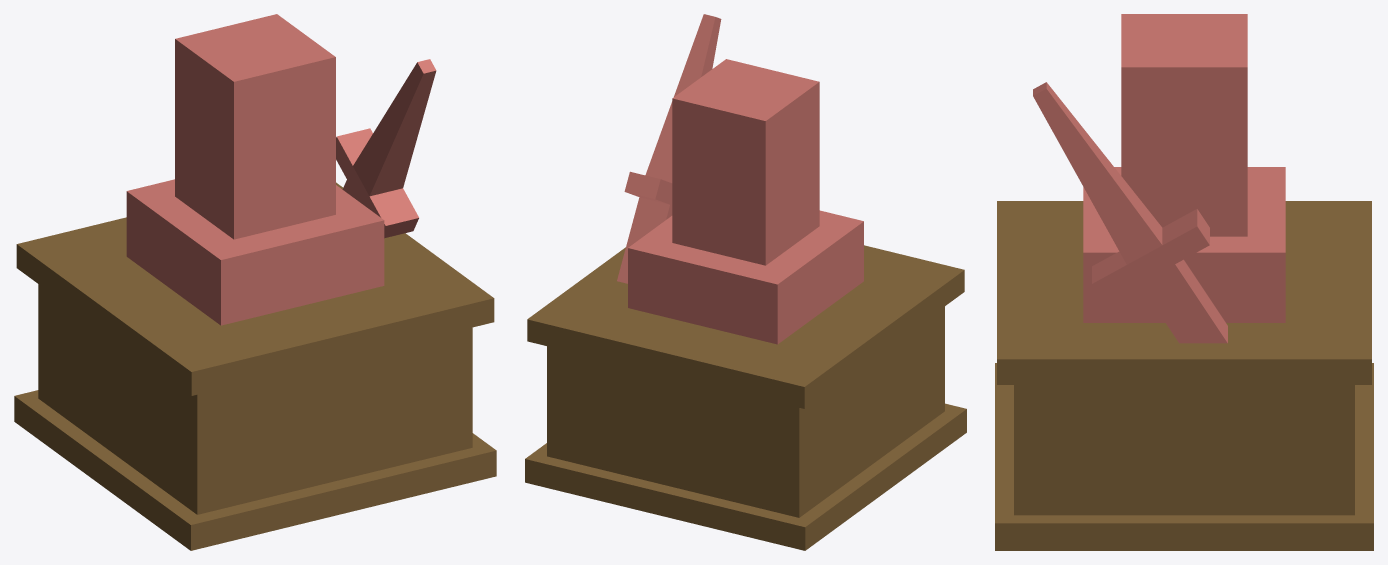
The model's file is peão.fbx.
3 views of the same model, side by side, from view 1: azimuth 30°, elevation 25°; view 2: azimuth 150°, elevation 25°; view 3: azimuth 270°, elevation 25° (orthographic). The views are drawn at different scales.
Parts seen in each view (by area): view 1: Plane; view 2: Plane; view 3: Plane.
Part boxes in pixels (box(x1,y1,x2,y2)): Plane: box(14, 14, 496, 550); Plane: box(525, 14, 966, 550); Plane: box(995, 14, 1373, 550).
Size of the model in its own units: 400 by 513 by 400.
